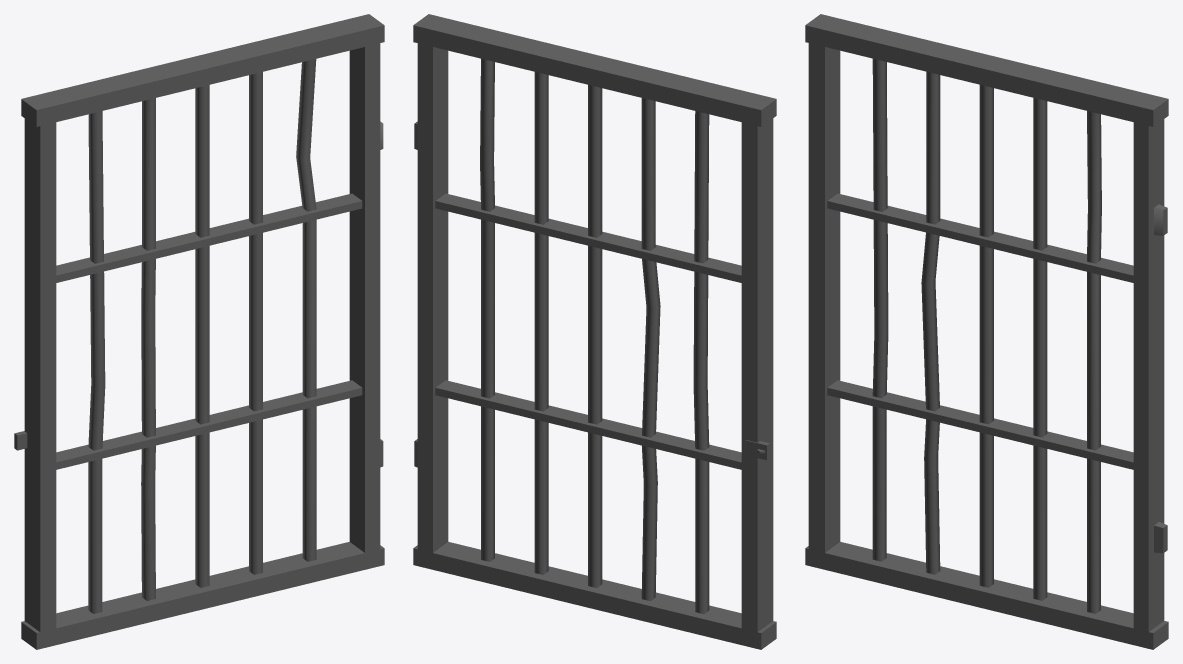
Rendered from SW_PROP_Gate_Large.fbx.
The picture shows the model from 3 angles, left to right: view 1: azimuth 30°, elevation 25°; view 2: azimuth 150°, elevation 25°; view 3: azimuth 330°, elevation 25°; orthographic projection.
Visible parts, largest first — view 1: SW_PROP_Gate_Large; view 2: SW_PROP_Gate_Large; view 3: SW_PROP_Gate_Large.
Boxes of the visible parts, box(x1,y1,x2,y2) form: SW_PROP_Gate_Large: box(14, 14, 384, 649); SW_PROP_Gate_Large: box(413, 14, 776, 649); SW_PROP_Gate_Large: box(805, 14, 1168, 649).
Bounding box in the file's own units: 2.01 × 2.89 × 0.1771.
